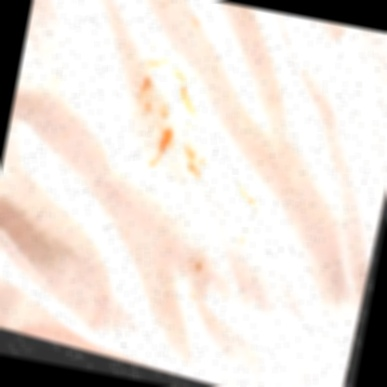kimchi: (232, 207, 263, 252), (146, 126, 175, 172), (176, 146, 209, 184), (225, 178, 265, 206), (145, 57, 190, 79), (133, 72, 157, 102), (179, 103, 208, 122), (184, 13, 203, 32), (138, 98, 155, 118), (178, 85, 197, 102), (191, 257, 208, 273), (160, 100, 173, 119), (144, 38, 159, 54), (154, 0, 170, 14), (183, 288, 197, 304), (53, 75, 63, 85)
